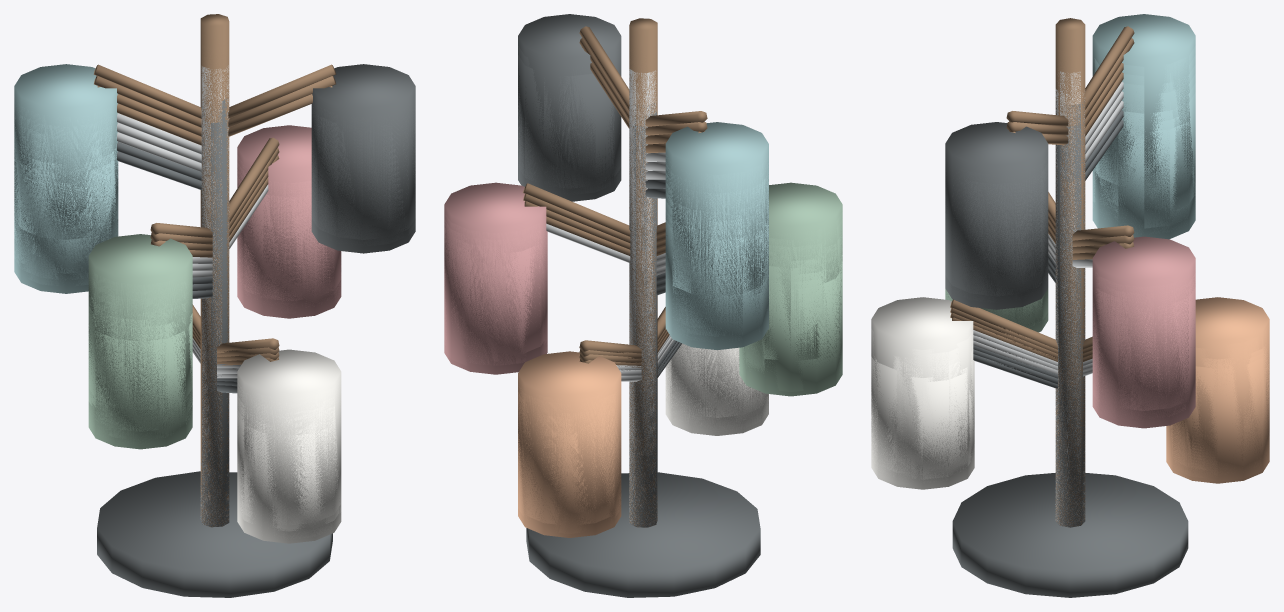
The model's file is Gear07.fbx.
The picture shows the model from 3 angles, left to right: view 1: azimuth 30°, elevation 25°; view 2: azimuth 150°, elevation 25°; view 3: azimuth 270°, elevation 25°; orthographic projection.
Parts seen in each view (by area): view 1: Gear07_V1_Charcoal, Gear07_V10_Charcoal, Gear07_V10_Blue, Gear07_V10_Paper, Gear07_V10_Sage, Gear07_V10_Walnut, Gear07_V1_Sage, Gear07_V10_Rose, Gear07_V6_Rose, Gear07_V1_Paper, Gear07_V8_Charcoal, Gear07_V2_Blue (+33 smaller); view 2: Gear07_V1_Charcoal, Gear07_V10_Blue, Gear07_V10_Apricot, Gear07_V10_Charcoal, Gear07_V10_Walnut, Gear07_V10_Rose, Gear07_V2_Blue, Gear07_V8_Charcoal, Gear07_V6_Rose, Gear07_V1_Sage, Gear07_V8_Rose, Gear07_V10_Sage (+37 smaller); view 3: Gear07_V1_Charcoal, Gear07_V10_Charcoal, Gear07_V10_Rose, Gear07_V10_Walnut, Gear07_V8_Charcoal, Gear07_V10_Blue, Gear07_V6_Rose, Gear07_V1_Paper, Gear07_V10_Paper, Gear07_V5_Apricot, Gear07_V2_Blue, Gear07_V9_Walnut (+32 smaller).
Boxes of the visible parts, x1=… form: Gear07_V1_Charcoal: x1=97, y1=120, x2=332, y2=597; Gear07_V10_Charcoal: x1=311, y1=64, x2=415, y2=239; Gear07_V10_Blue: x1=14, y1=64, x2=118, y2=239; Gear07_V10_Paper: x1=237, y1=349, x2=341, y2=525; Gear07_V10_Sage: x1=88, y1=234, x2=192, y2=409; Gear07_V10_Walnut: x1=93, y1=14, x2=336, y2=526; Gear07_V1_Sage: x1=88, y1=320, x2=192, y2=449; Gear07_V10_Rose: x1=237, y1=125, x2=341, y2=300; Gear07_V6_Rose: x1=237, y1=176, x2=341, y2=318; Gear07_V1_Paper: x1=237, y1=414, x2=341, y2=543; Gear07_V8_Charcoal: x1=311, y1=106, x2=415, y2=253; Gear07_V2_Blue: x1=14, y1=167, x2=115, y2=293; Gear07_V1_Charcoal: x1=526, y1=125, x2=760, y2=597; Gear07_V10_Blue: x1=665, y1=122, x2=768, y2=296; Gear07_V10_Apricot: x1=518, y1=351, x2=621, y2=524; Gear07_V10_Charcoal: x1=518, y1=14, x2=621, y2=188; Gear07_V10_Walnut: x1=523, y1=18, x2=707, y2=527; Gear07_V10_Rose: x1=444, y1=182, x2=547, y2=353; Gear07_V2_Blue: x1=665, y1=219, x2=768, y2=350; Gear07_V8_Charcoal: x1=518, y1=55, x2=621, y2=201; Gear07_V6_Rose: x1=444, y1=240, x2=547, y2=374; Gear07_V1_Sage: x1=739, y1=271, x2=842, y2=396; Gear07_V8_Rose: x1=444, y1=219, x2=547, y2=365; Gear07_V10_Sage: x1=769, y1=182, x2=842, y2=317; Gear07_V1_Charcoal: x1=952, y1=125, x2=1188, y2=597; Gear07_V10_Charcoal: x1=945, y1=122, x2=1048, y2=296; Gear07_V10_Rose: x1=1092, y1=236, x2=1195, y2=410; Gear07_V10_Walnut: x1=950, y1=18, x2=1134, y2=527; Gear07_V8_Charcoal: x1=945, y1=163, x2=1048, y2=309; Gear07_V10_Blue: x1=1092, y1=14, x2=1195, y2=187; Gear07_V6_Rose: x1=1092, y1=287, x2=1195, y2=428; Gear07_V1_Paper: x1=871, y1=361, x2=974, y2=489; Gear07_V10_Paper: x1=871, y1=297, x2=974, y2=468; Gear07_V5_Apricot: x1=1166, y1=348, x2=1269, y2=481; Gear07_V2_Blue: x1=1092, y1=119, x2=1195, y2=239; Gear07_V9_Walnut: x1=950, y1=36, x2=1134, y2=520.
Size of the model in its own units: 24.32 by 39.2 by 27.
